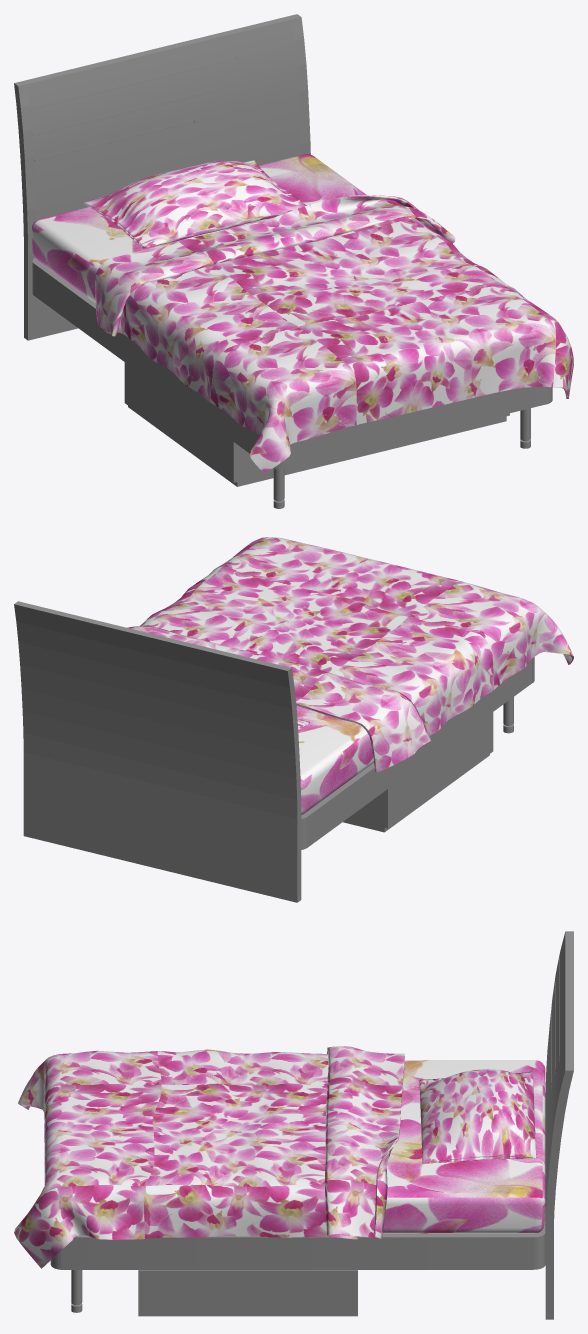
File: bed.FBX
3 renders of one model, top to bottom at view 1: azimuth 30°, elevation 25°; view 2: azimuth 150°, elevation 25°; view 3: azimuth 270°, elevation 25°, orthographic. The views are drawn at different scales.
Visible parts, largest first — view 1: objobj_, objSShape02, objRectangle11, objRectangle26, objSShape03, objRectangle13, objRectangle48, objSShape04, objCircle06; view 2: objSShape02, objobj_, objRectangle11, objRectangle26, objSShape03, objSShape04, objRectangle13; view 3: objobj_, objRectangle11, objRectangle26, objSShape02, objSShape04, objRectangle13, objCircle06.
Boxes of the visible parts, <box> form: objobj_: <box>31,154,573,473</box>; objSShape02: <box>23,16,301,338</box>; objRectangle11: <box>32,258,546,468</box>; objRectangle26: <box>124,362,509,482</box>; objSShape03: <box>14,81,36,340</box>; objRectangle13: <box>128,406,506,486</box>; objRectangle48: <box>30,57,239,162</box>; objSShape04: <box>289,14,310,154</box>; objCircle06: <box>273,408,530,508</box>; objSShape02: <box>22,603,288,900</box>; objobj_: <box>127,537,573,814</box>; objRectangle11: <box>301,658,532,849</box>; objRectangle26: <box>384,712,493,828</box>; objSShape03: <box>279,666,301,902</box>; objSShape04: <box>14,601,32,837</box>; objRectangle13: <box>343,754,489,832</box>; objobj_: <box>14,1046,545,1268</box>; objRectangle11: <box>63,1207,545,1269</box>; objRectangle26: <box>138,1270,357,1312</box>; objSShape02: <box>545,935,573,1282</box>; objSShape04: <box>545,1066,573,1319</box>; objRectangle13: <box>138,1313,357,1316</box>; objCircle06: <box>71,1270,82,1312</box>.
Bounding box in the file's own units: 149 × 100 × 204.
Materials: 9 (1 with a texture image).
